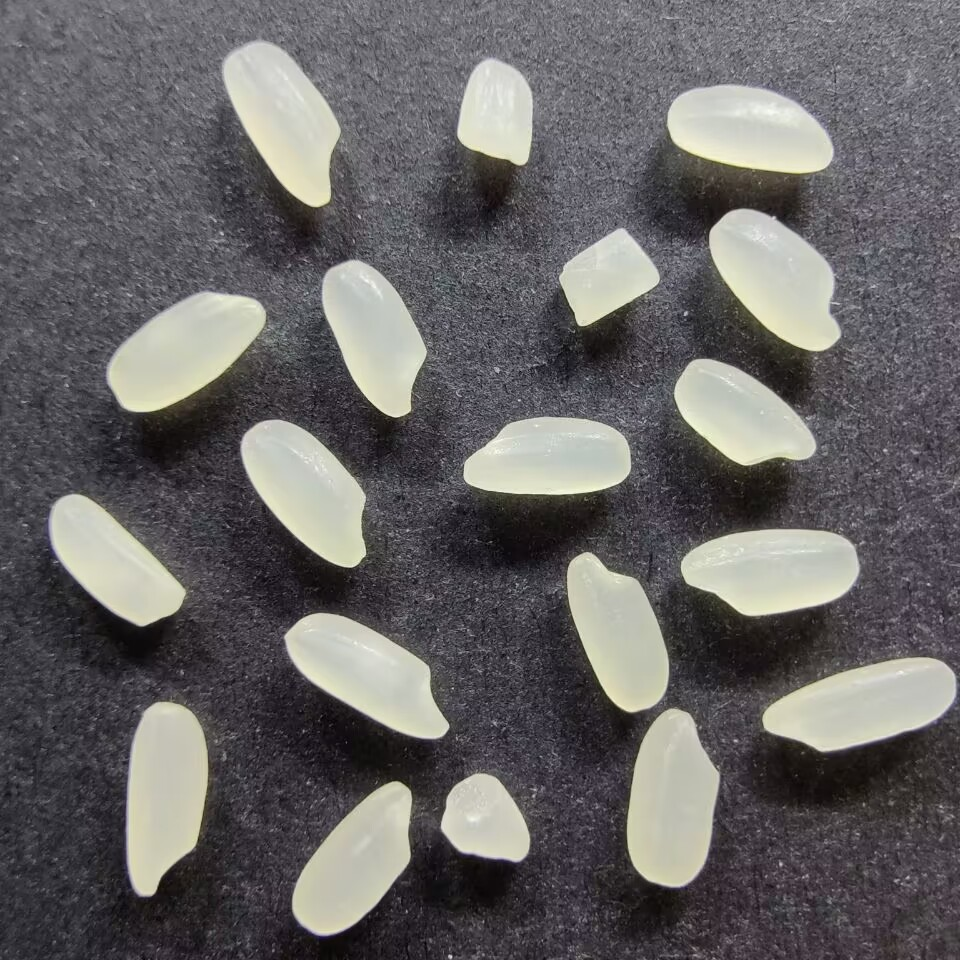broken: (556, 225, 661, 328), (455, 56, 535, 168), (438, 771, 531, 863)
rice: (282, 611, 449, 741), (220, 40, 342, 208), (103, 290, 268, 414), (289, 779, 415, 937), (706, 206, 841, 352), (238, 418, 367, 569), (47, 492, 186, 631), (761, 656, 956, 754), (564, 550, 671, 714), (624, 706, 720, 888), (123, 700, 210, 899), (320, 258, 428, 418), (679, 527, 859, 617), (672, 358, 818, 467), (665, 83, 833, 174), (460, 415, 632, 496)
